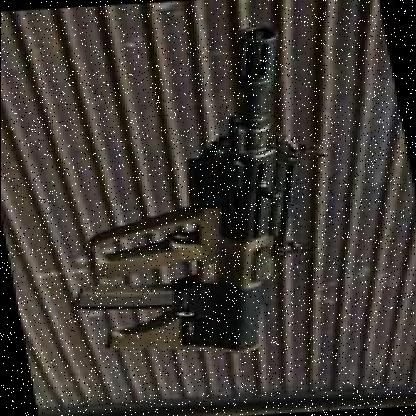rifle: (13, 14, 352, 362)
